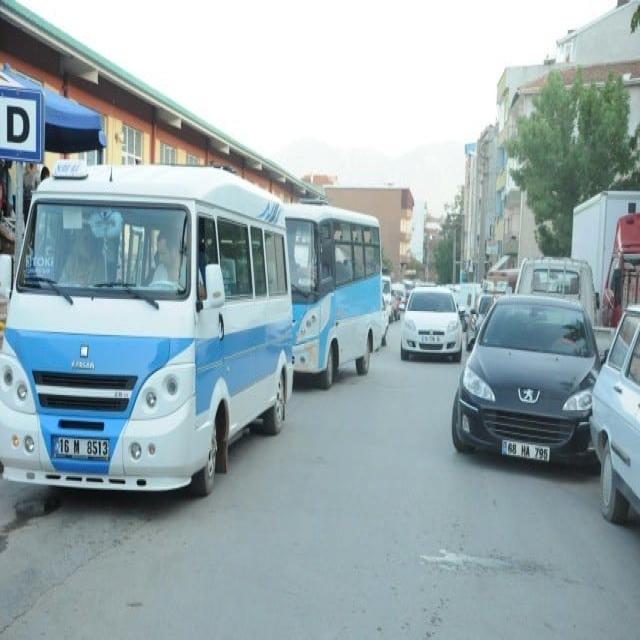bus: (0, 163, 292, 494), (285, 203, 382, 389)
